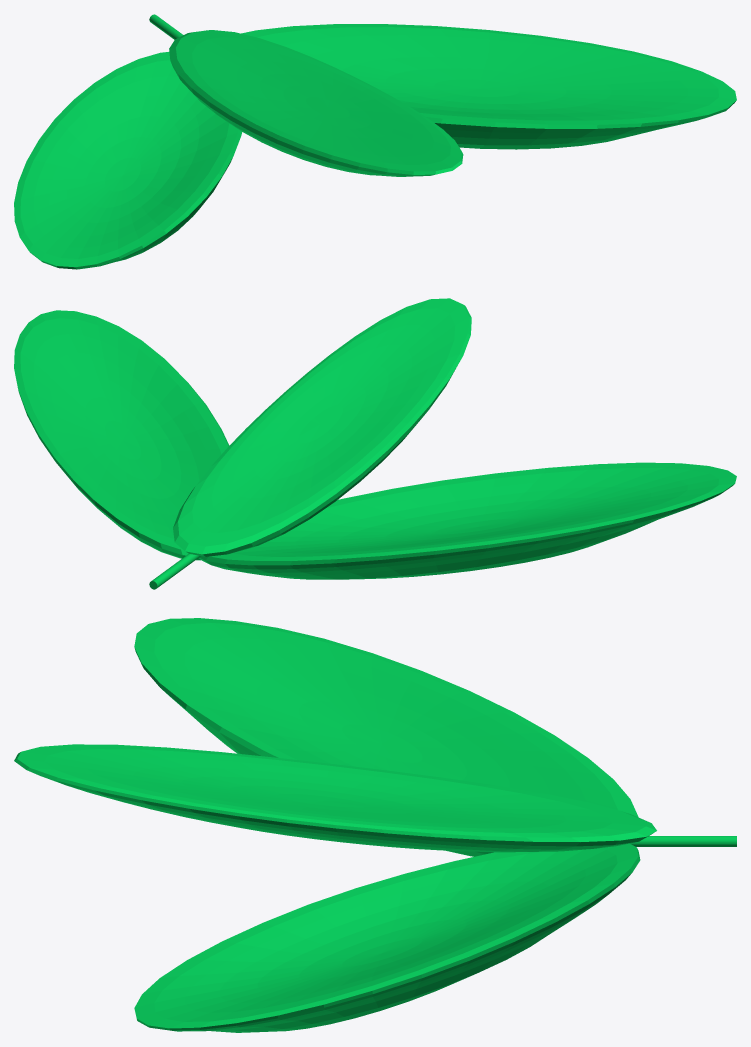
File: palmateLeaf2.fbx
The picture shows the model from 3 angles, top to bottom: view 1: azimuth 30°, elevation 25°; view 2: azimuth 150°, elevation 25°; view 3: azimuth 270°, elevation 25°; orthographic projection. The views are drawn at different scales.
Parts seen in each view (by area): view 1: LeftLobe, RightLobe, MiddleLobe; view 2: RightLobe, MiddleLobe, LeftLobe, Petiole; view 3: LeftLobe, RightLobe, MiddleLobe, Petiole.
Boxes of the visible parts, x1,y1,x2,y2 form: LeftLobe: [241, 24, 736, 149]; RightLobe: [14, 52, 241, 269]; MiddleLobe: [169, 30, 463, 176]; RightLobe: [199, 462, 736, 579]; MiddleLobe: [173, 298, 471, 556]; LeftLobe: [14, 310, 229, 560]; Petiole: [149, 554, 200, 589]; LeftLobe: [134, 843, 640, 1032]; RightLobe: [134, 618, 638, 856]; MiddleLobe: [14, 744, 656, 852]; Petiole: [630, 836, 736, 846].
Bounding box in the file's own units: 17.38 × 12.97 × 2.59.
